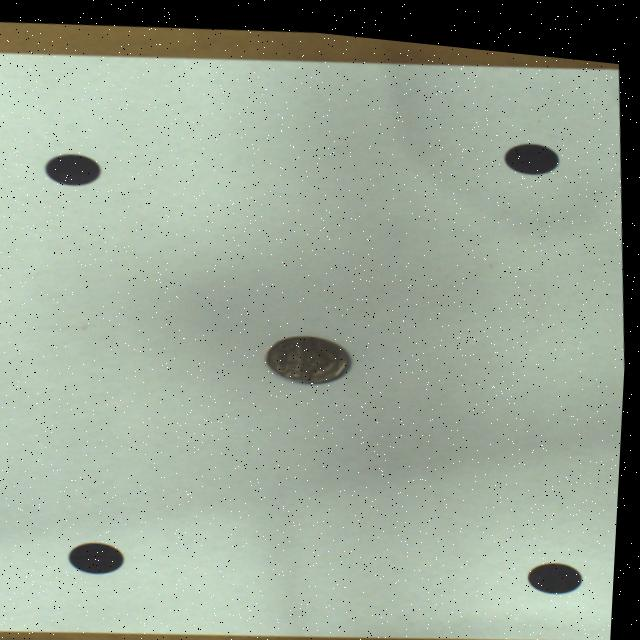space: (73, 539, 128, 570), (532, 550, 586, 581), (504, 132, 558, 163), (46, 152, 100, 183)
tail5bath: (269, 329, 353, 377)
